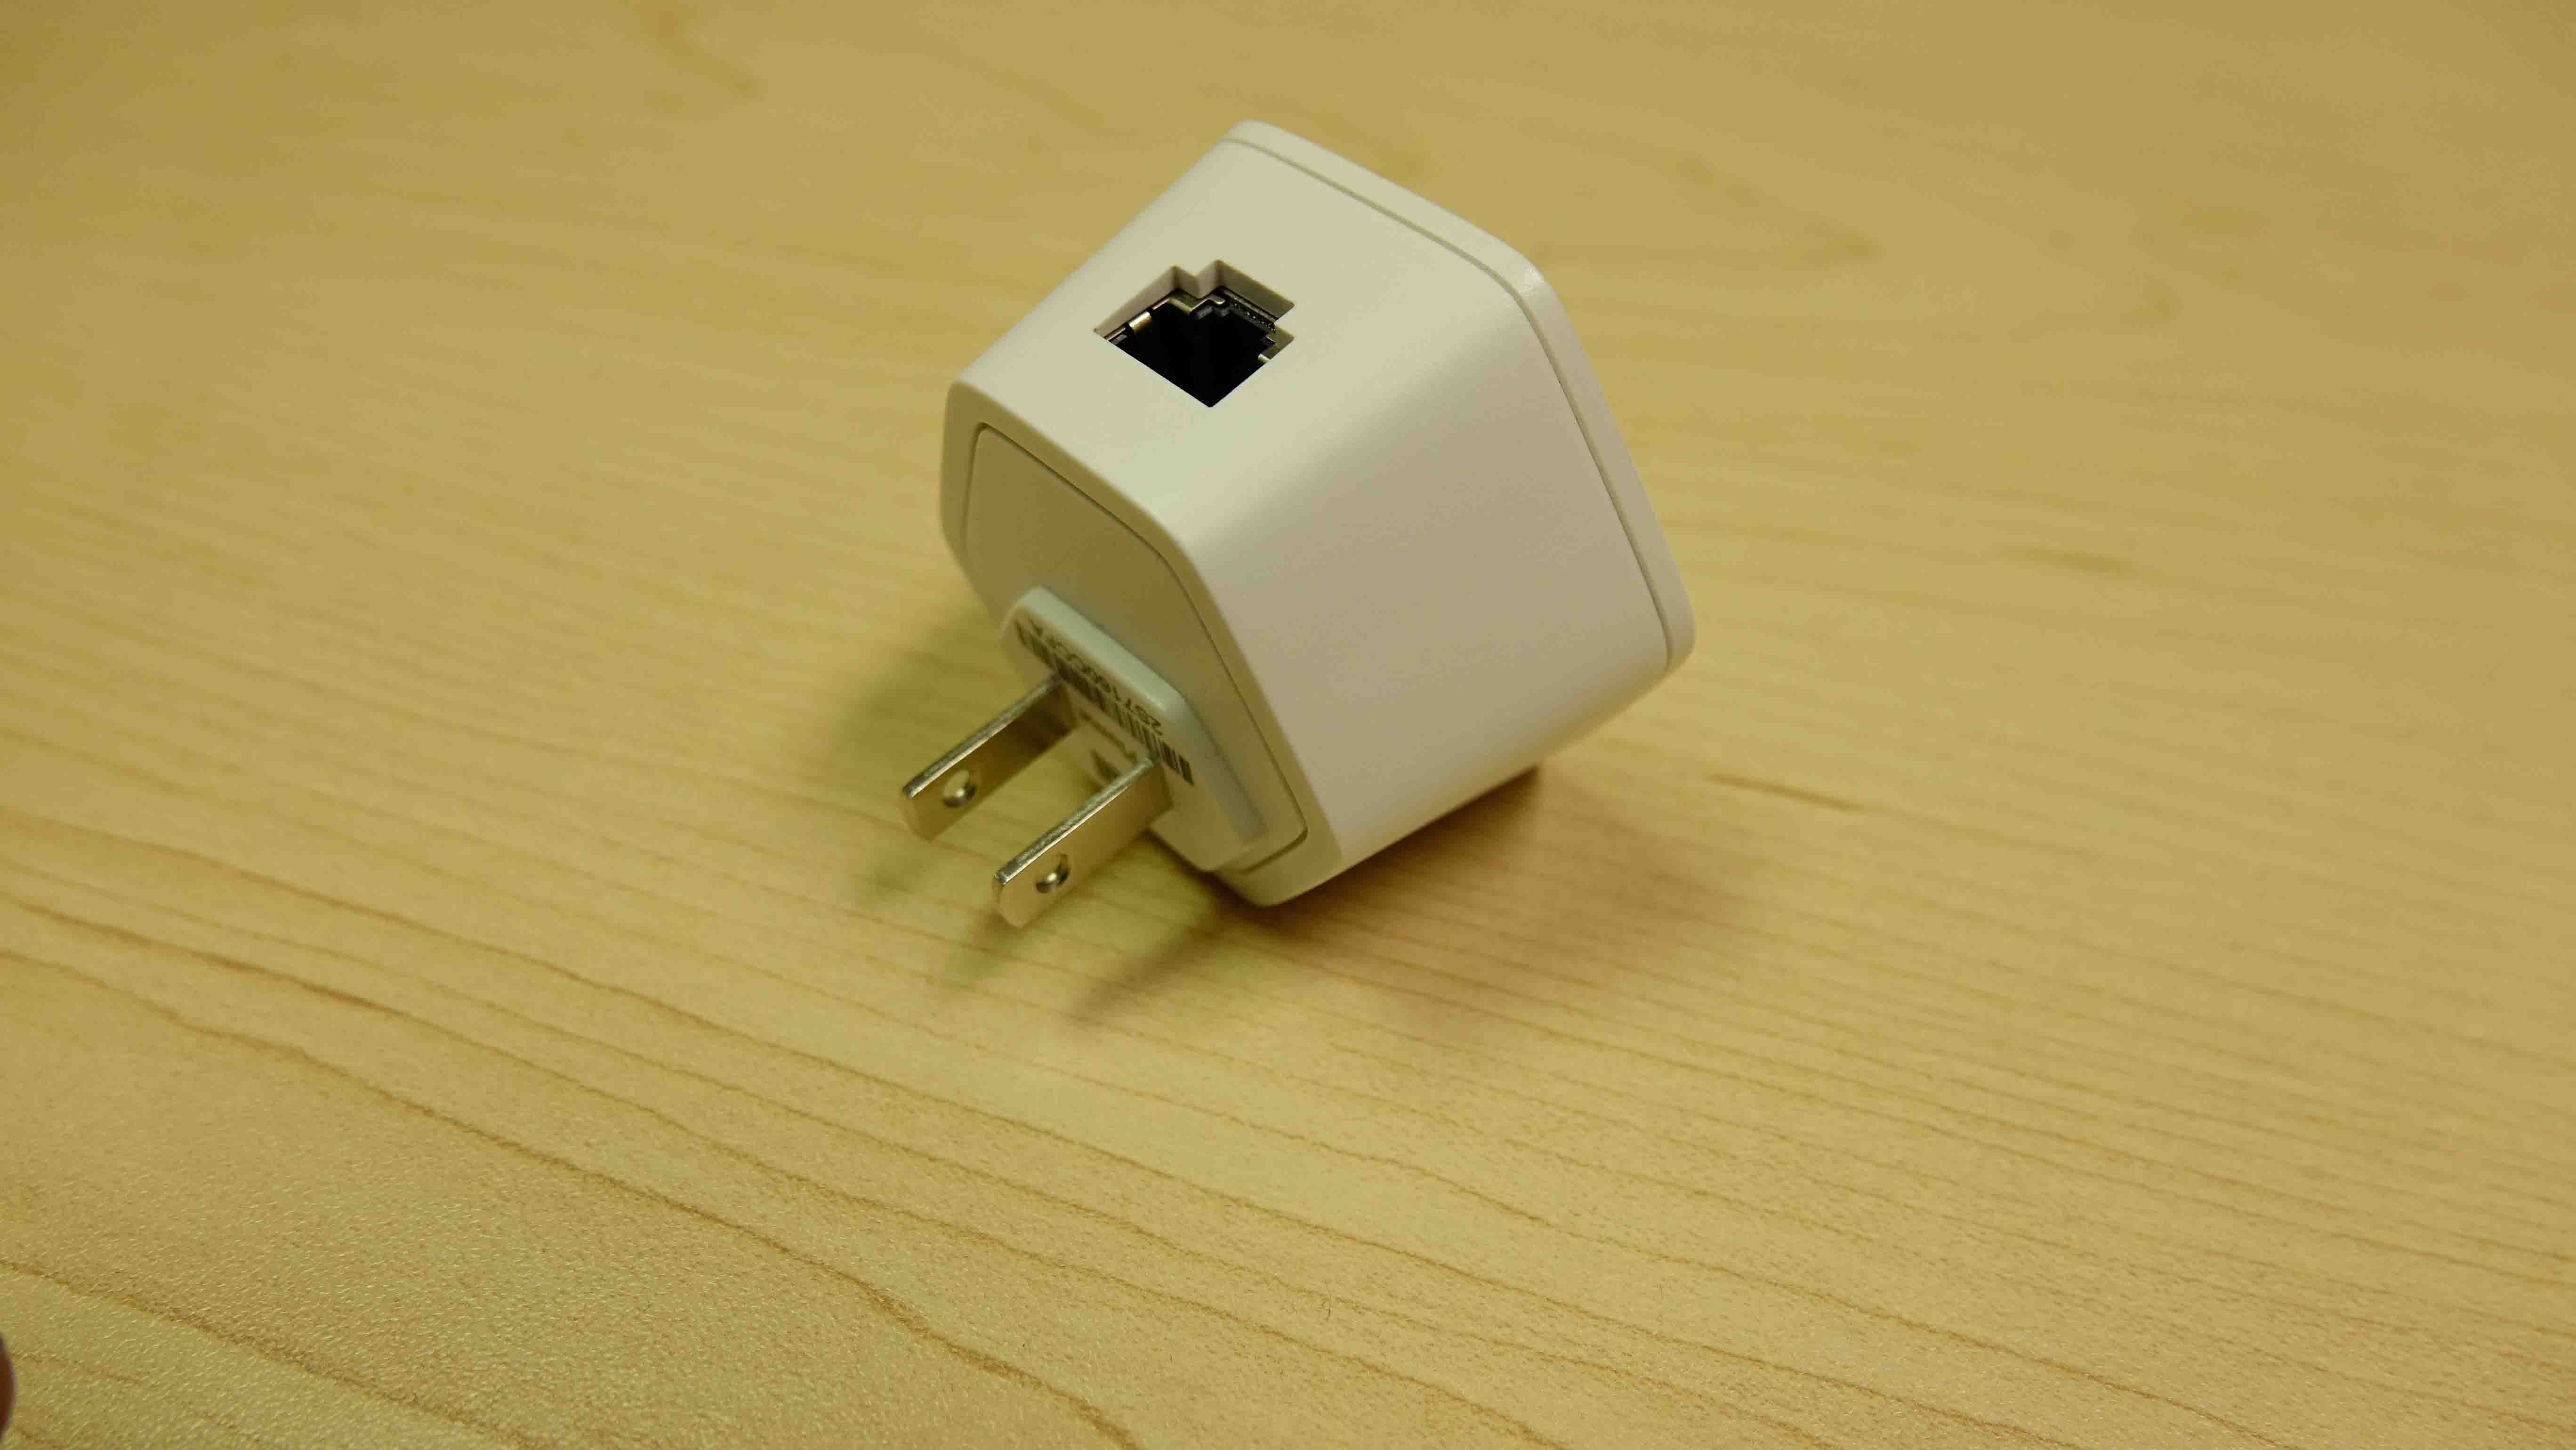pod: (886, 108, 1723, 962)
